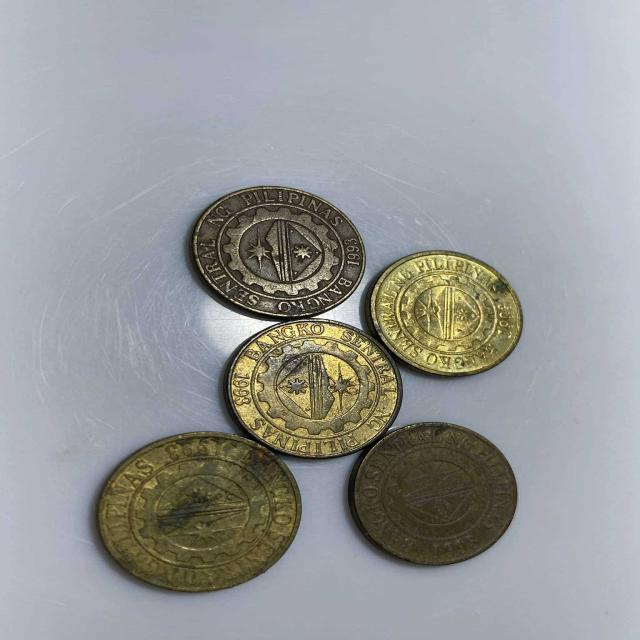25Cent_Old_Back: (100, 437, 293, 578), (222, 322, 400, 452), (352, 431, 517, 564), (191, 185, 357, 312), (378, 254, 518, 371)
